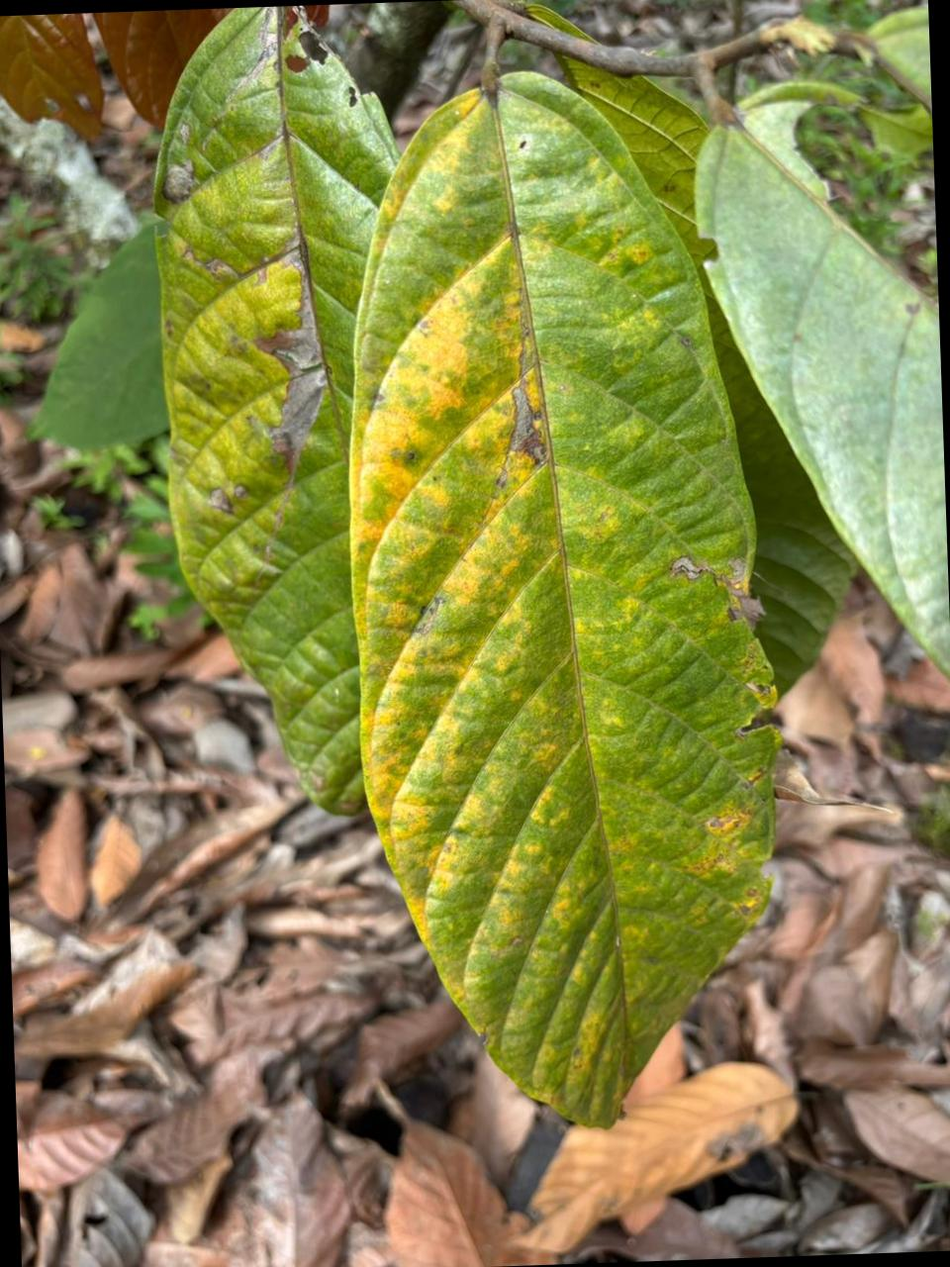Fosforo: (351, 65, 775, 1125), (154, 6, 398, 814)
